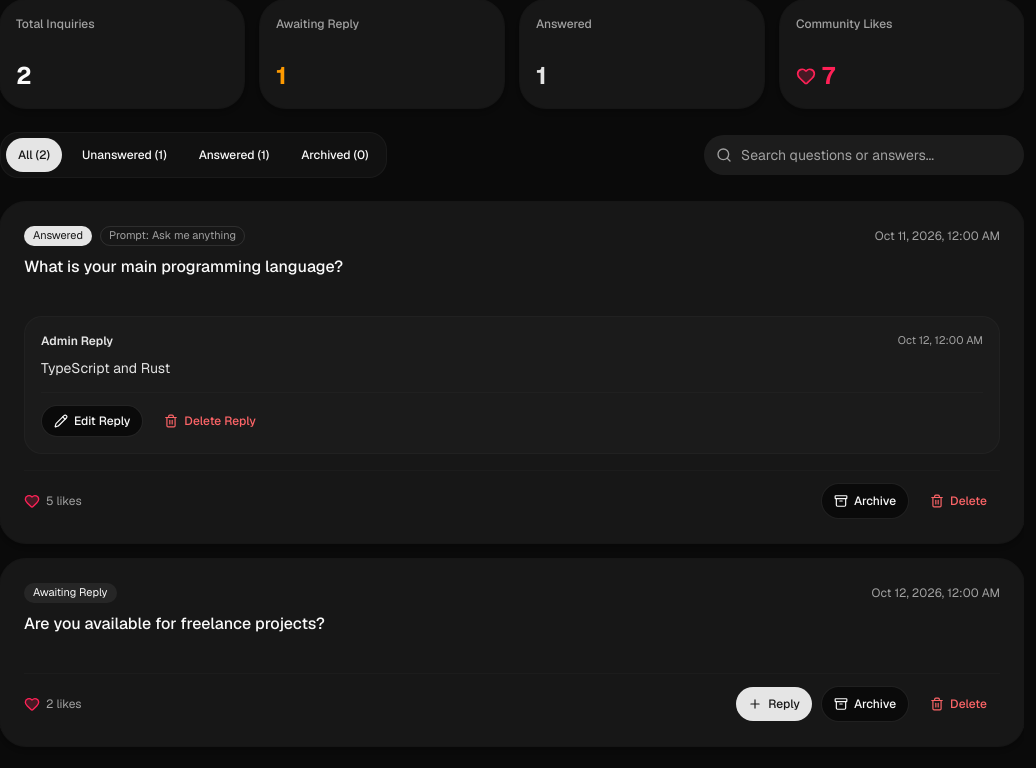
Admin & Auth UI Components › AdminQaView Component › filters questions when switching tabs
The width and height of the screenshot is (1036, 768).
Click the button "Unanswered (1)". click: (124, 155)
box: x1=69 y1=137 x2=180 y2=173
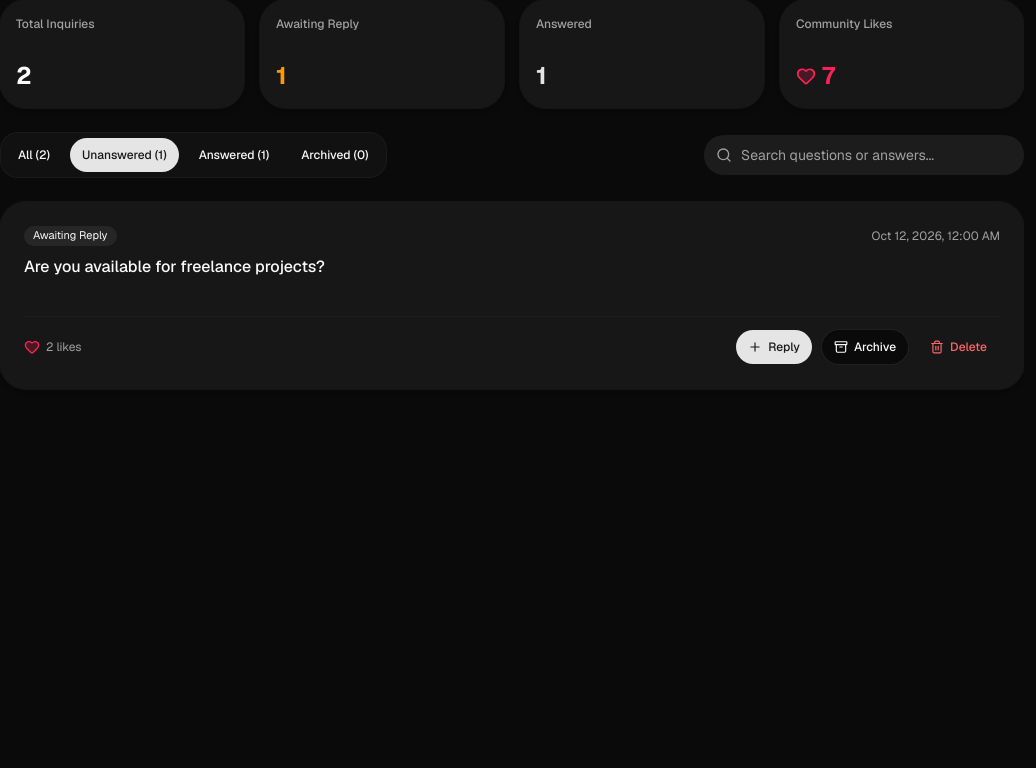
expect the text "Are you available for freelance projects?" is shown: met, box x1=24 y1=256 x2=325 y2=277
expect the text "What is your main programming language?" is gone: met
